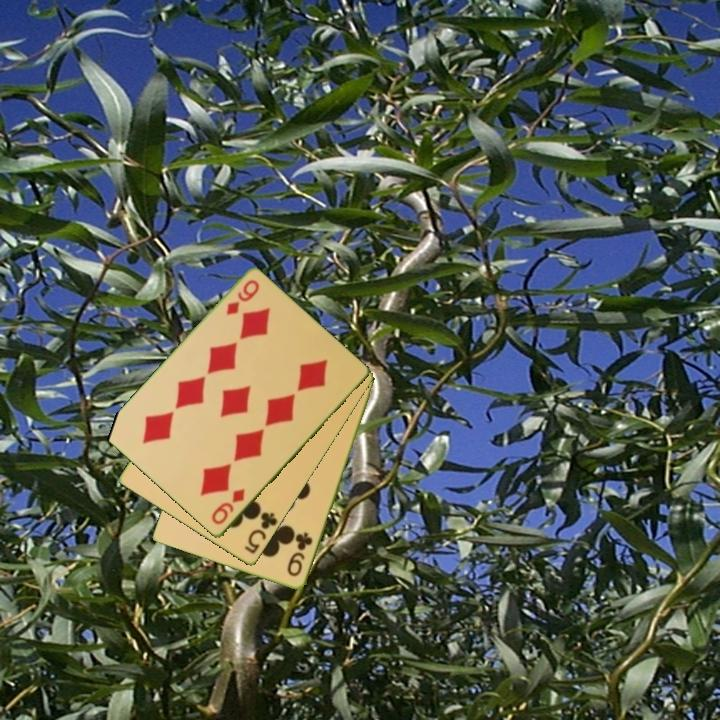5c: (241, 508, 281, 557)
9c: (284, 529, 316, 580)
9d: (208, 485, 248, 528), (222, 276, 262, 318)
